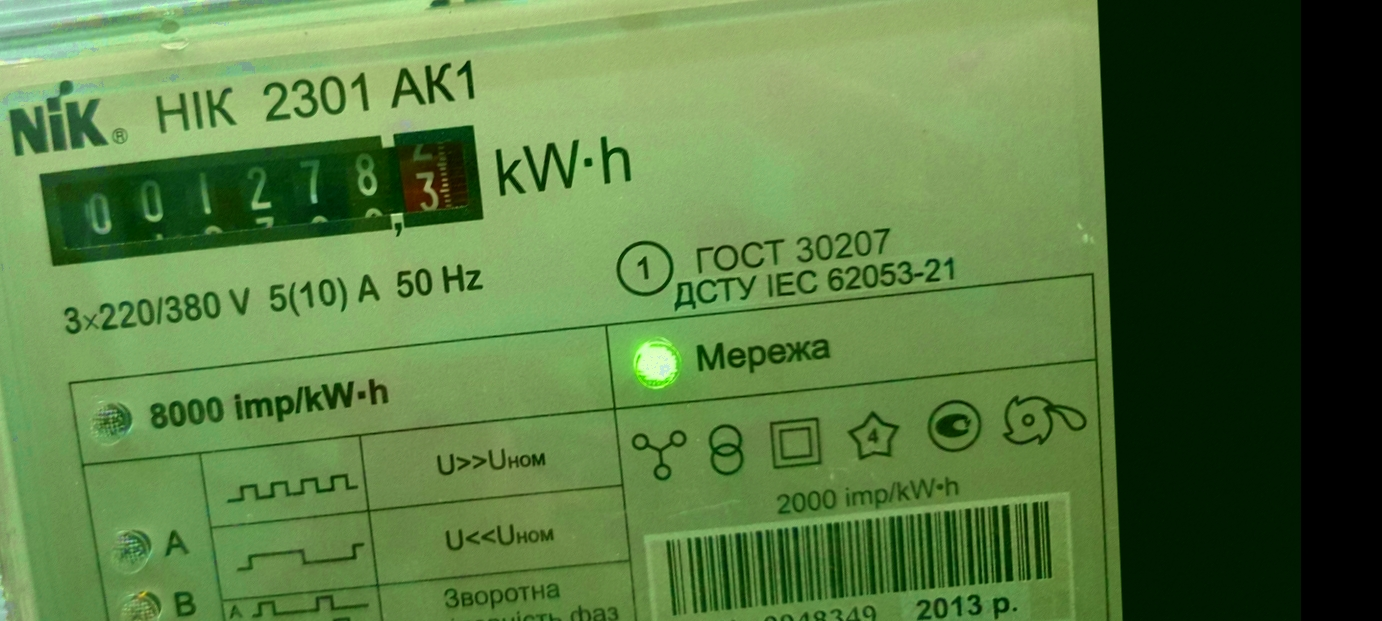0: (84, 187, 115, 236), (137, 176, 164, 224)
1: (195, 168, 214, 217)
2: (243, 163, 272, 210), (407, 141, 434, 163)
3: (412, 166, 440, 210)
7: (298, 156, 322, 205)
8: (351, 150, 379, 198)
screen: (18, 113, 501, 275)
